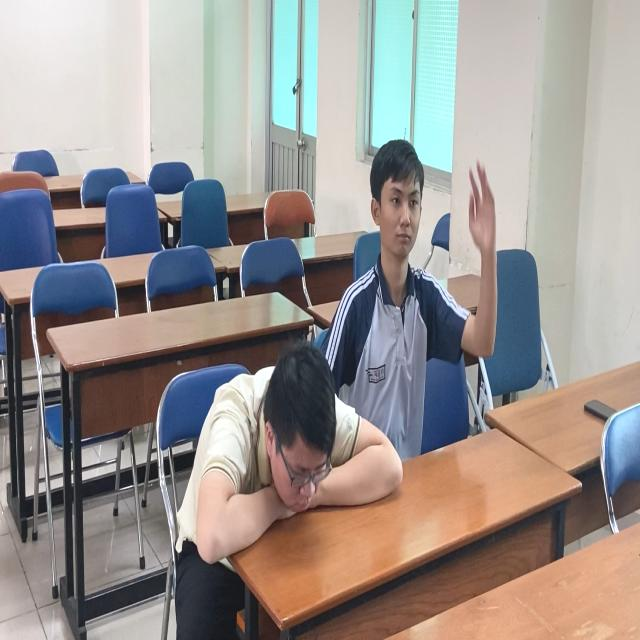raise_hand: (332, 132, 504, 477)
sleep: (171, 335, 405, 577)
